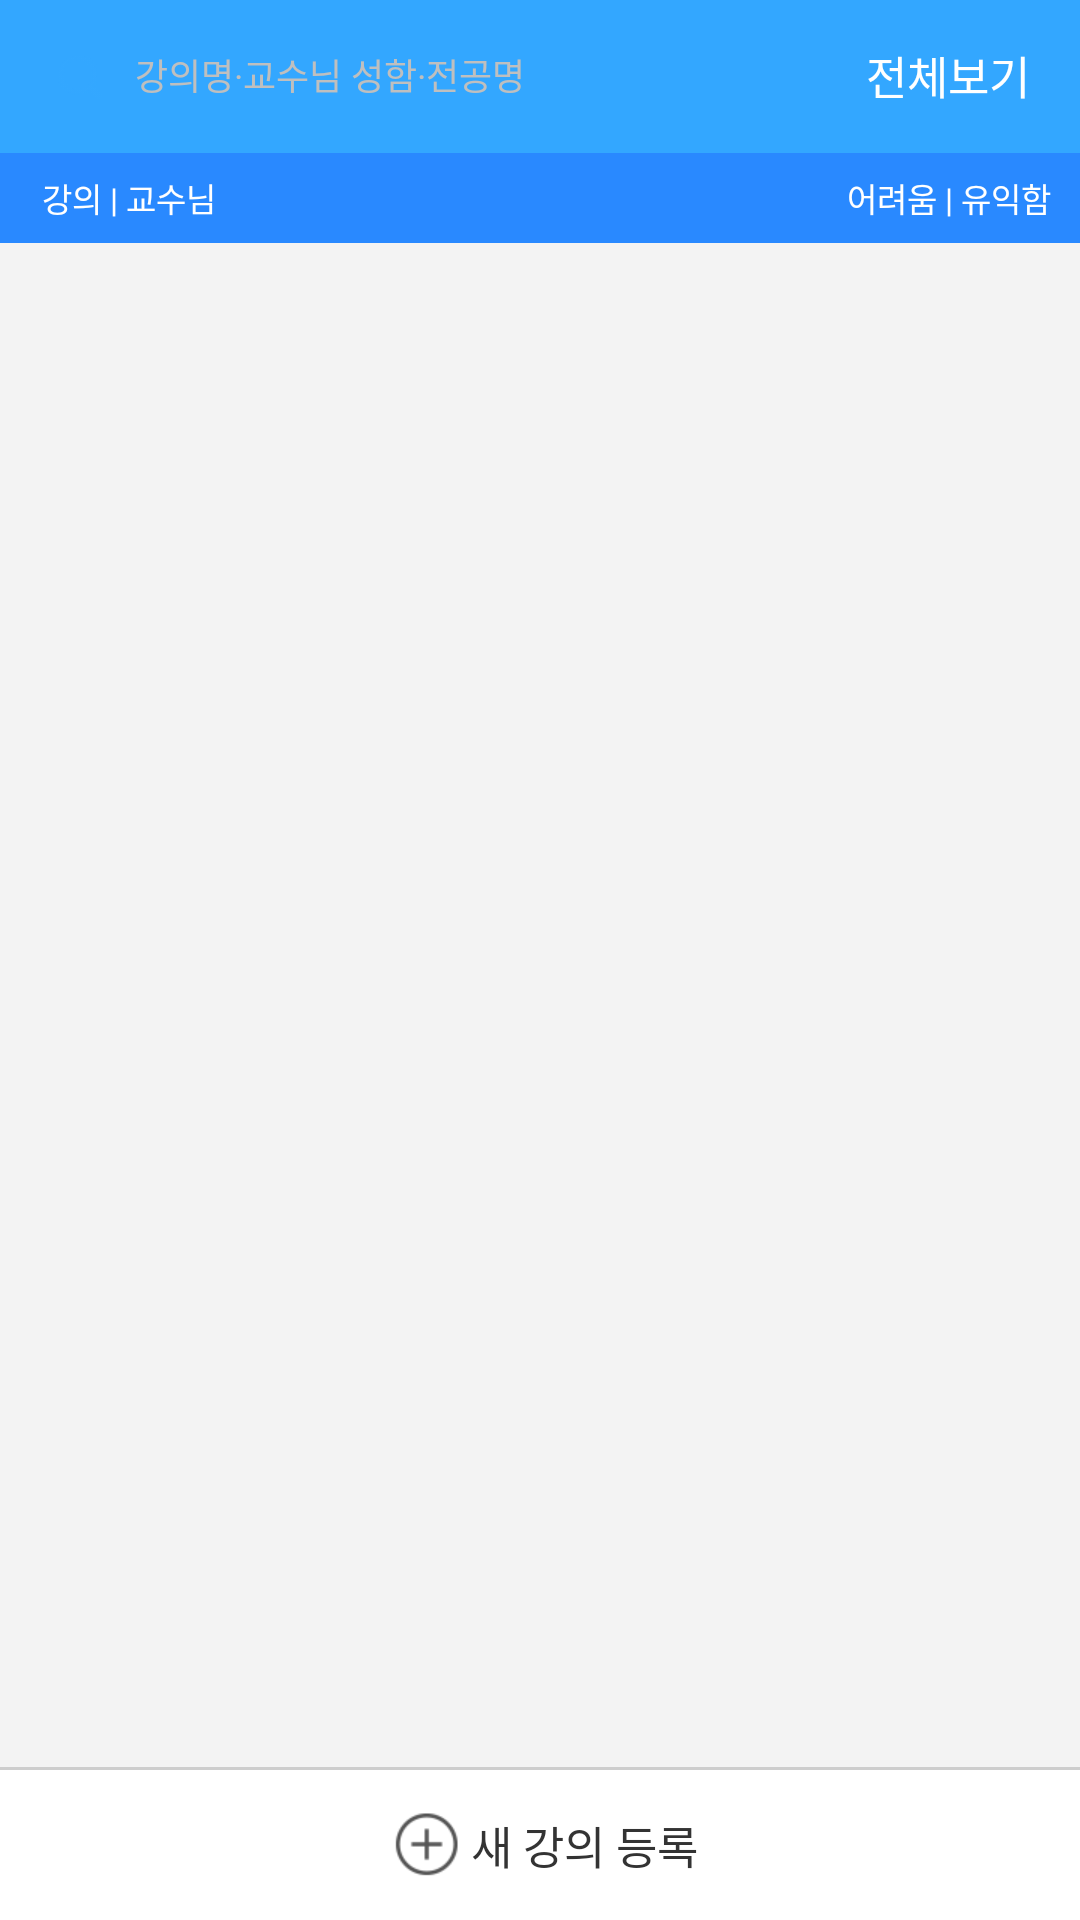

Icon click points for this 1080x1920 phone screenshot, format (x,y):
item add: (426,1844)
